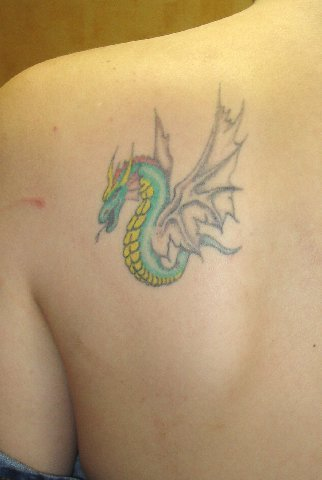tatu6_drakon: (79, 79, 264, 296)
